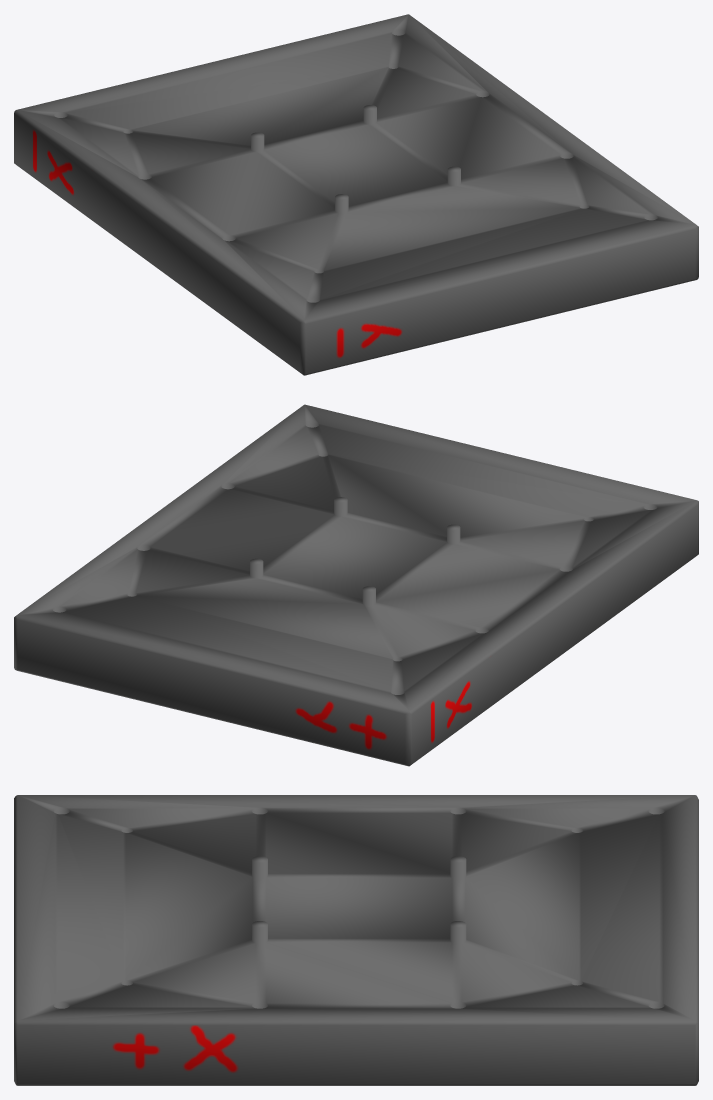
Rendered from Dummy1.fbx.
3 renders of one model, top to bottom at view 1: azimuth 30°, elevation 25°; view 2: azimuth 150°, elevation 25°; view 3: azimuth 270°, elevation 25°, orthographic. The views are drawn at different scales.
Visible parts, largest first — view 1: obj_000001; view 2: obj_000001; view 3: obj_000001.
Boxes of the visible parts, left/top/right/bottom form: obj_000001: left=14, top=14, right=698, bottom=375; obj_000001: left=14, top=404, right=698, bottom=766; obj_000001: left=14, top=795, right=698, bottom=1085.
Bounding box in the file's own units: 15000 × 2500 × 19000.
